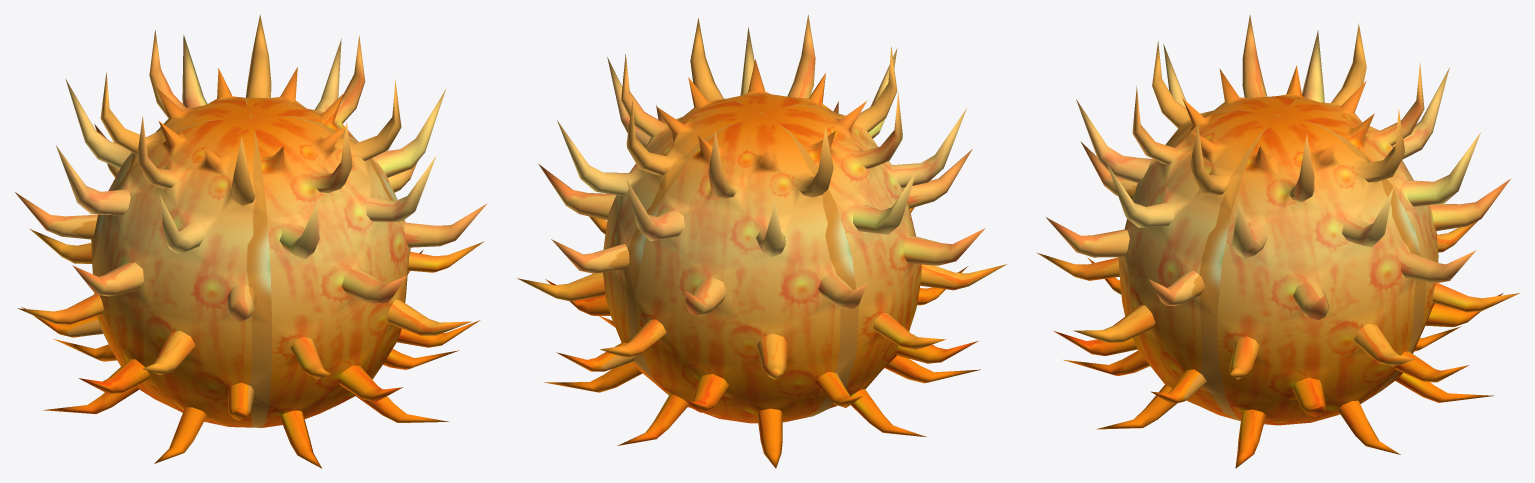
Rendered from Rambutan.fbx.
3 views of the same model, side by side, from view 1: azimuth 30°, elevation 25°; view 2: azimuth 150°, elevation 25°; view 3: azimuth 270°, elevation 25° (orthographic).
Visible parts, largest first — view 1: Rambutan; view 2: Rambutan; view 3: Rambutan.
Boxes of the visible parts, x1=… form: Rambutan: x1=15, y1=14, x2=487, y2=468; Rambutan: x1=517, y1=15, x2=1006, y2=468; Rambutan: x1=1037, y1=15, x2=1519, y2=468.
Bounding box in the file's own units: 38.95 × 29.35 × 39.12.
